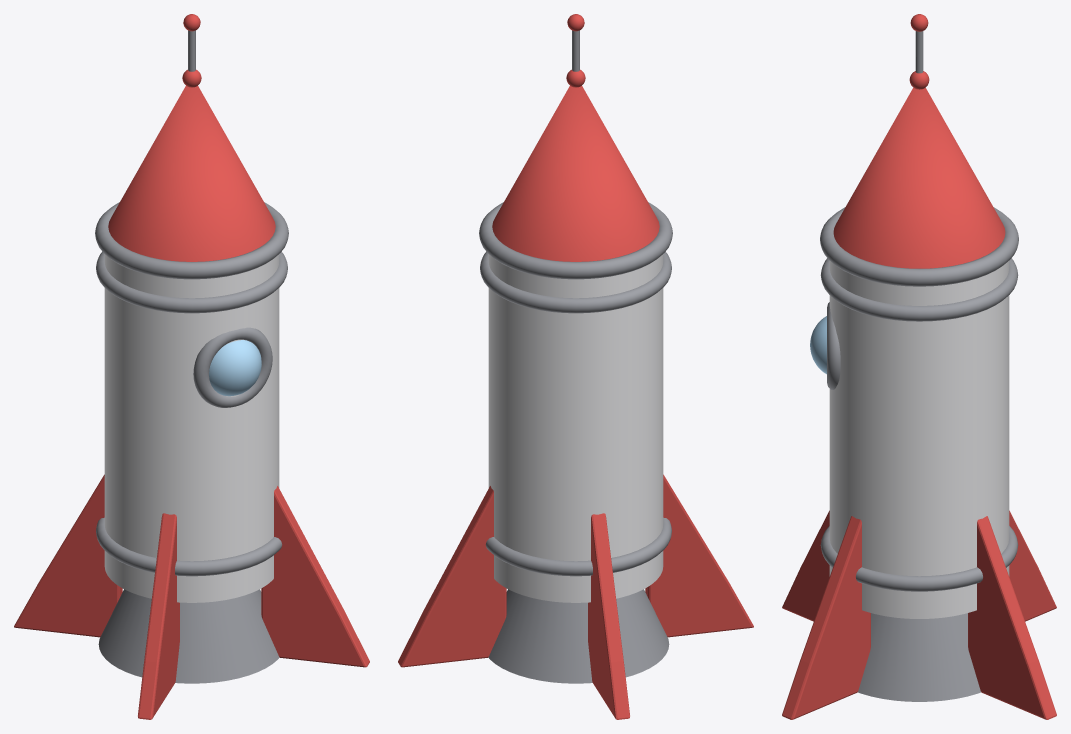
The model's file is Rocket.fbx.
3 renders of one model, left to right at view 1: azimuth 30°, elevation 25°; view 2: azimuth 150°, elevation 25°; view 3: azimuth 270°, elevation 25°, orthographic. The views are drawn at different scales.
Visible parts, largest first — view 1: Rocket_Body, Rocket_Nose, Rocket_Nozzle, Rocket_Fin_F, Rocket_Fin_B, Rocket_Fin_L, Rocket_Band_Nose, Rocket_Band_Upper, Rocket_Band_Lower, Rocket_Window_Frame, Rocket_Window_Glass; view 2: Rocket_Body, Rocket_Nose, Rocket_Nozzle, Rocket_Fin_R, Rocket_Fin_L, Rocket_Fin_B, Rocket_Band_Nose, Rocket_Band_Upper, Rocket_Band_Lower; view 3: Rocket_Body, Rocket_Nose, Rocket_Fin_F, Rocket_Fin_R, Rocket_Nozzle, Rocket_Band_Nose, Rocket_Band_Upper, Rocket_Band_Lower, Rocket_Fin_B, Rocket_Fin_L, Rocket_Window_Frame, Rocket_Window_Glass.
Boxes of the visible parts, <box> form: Rocket_Body: <box>104,254,279,602</box>; Rocket_Nose: <box>108,86,275,261</box>; Rocket_Nozzle: <box>98,589,279,683</box>; Rocket_Fin_F: <box>261,486,369,667</box>; Rocket_Fin_B: <box>14,474,122,637</box>; Rocket_Fin_L: <box>138,513,179,719</box>; Rocket_Band_Nose: <box>95,202,288,279</box>; Rocket_Band_Upper: <box>96,251,287,313</box>; Rocket_Band_Lower: <box>96,517,282,576</box>; Rocket_Window_Frame: <box>193,327,272,407</box>; Rocket_Window_Glass: <box>209,340,261,396</box>; Rocket_Body: <box>488,254,663,602</box>; Rocket_Nose: <box>492,86,659,261</box>; Rocket_Nozzle: <box>488,589,669,683</box>; Rocket_Fin_R: <box>398,486,506,667</box>; Rocket_Fin_L: <box>645,474,753,637</box>; Rocket_Fin_B: <box>588,513,629,719</box>; Rocket_Band_Nose: <box>479,202,672,279</box>; Rocket_Band_Upper: <box>480,251,671,313</box>; Rocket_Band_Lower: <box>485,517,671,576</box>; Rocket_Body: <box>829,261,1009,618</box>; Rocket_Nose: <box>833,88,1005,268</box>; Rocket_Fin_F: <box>782,516,870,719</box>; Rocket_Fin_R: <box>968,516,1056,719</box>; Rocket_Nozzle: <box>858,613,980,701</box>; Rocket_Band_Nose: <box>820,207,1018,286</box>; Rocket_Band_Upper: <box>820,258,1018,321</box>; Rocket_Band_Lower: <box>820,526,1018,591</box>; Rocket_Fin_B: <box>1009,510,1056,621</box>; Rocket_Fin_L: <box>782,510,829,621</box>; Rocket_Window_Frame: <box>827,302,840,389</box>; Rocket_Window_Glass: <box>810,316,826,374</box>.
Bounding box in the file's own units: 1.53 × 3.99 × 1.53.
